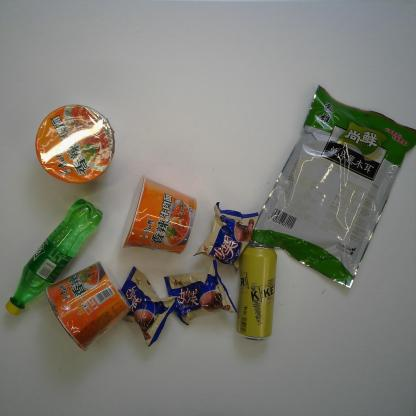Alcohol: (235, 242, 278, 344)
Dessert: (106, 266, 181, 348), (193, 201, 261, 276), (163, 258, 238, 326)
Dried Food: (245, 82, 416, 289)
Drink: (5, 197, 104, 317)
Instant Noodles: (44, 259, 133, 354), (33, 102, 118, 187), (117, 174, 202, 254)
